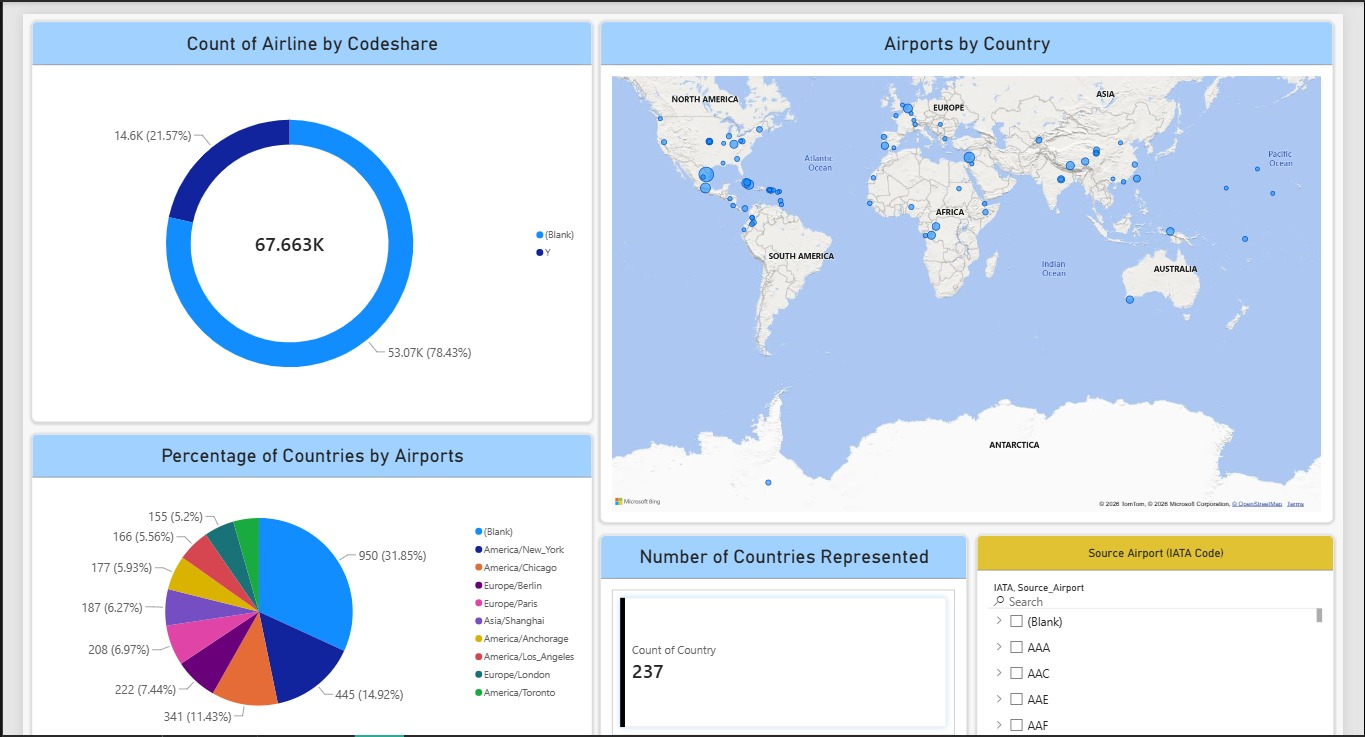

This screenshot's page, from the dashboard's own definition file:
{"tool":"powerbi","page":{"name":"Page 2","canvas":[1920,1080],"ordinal":1},"visuals":[{"type":"donutChart","fields":{"Category":["routes.Codeshare"],"Y":["CountNonNull(routes.Airline)"]},"box":[13.5,11.5,815.4,582.7],"z":0},{"type":"slicer","title":"Source Airport (IATA Code)","fields":{"Values":["airports.IATA","routes.Source_Airport"]},"box":[1386.5,757.7,519.2,307.7],"z":1000},{"type":"pieChart","fields":{"Category":["airlines.Tz_Database"],"Y":["CountNonNull(airlines.Country)"]},"box":[13.5,611.5,815.4,453.8],"z":2000},{"type":"filledMap","fields":{"Category":["airports.Country"],"X":["Count(airports.Airport_ID)"],"Y":["CountNonNull(airports.Airport_ID)"]},"box":[840.4,11.5,1065.4,728.8],"z":3000},{"type":"cardVisual","title":"Number of Countries Represented","fields":{"Data":["Count(airports.Country)"]},"box":[840.4,757.7,532.7,307.7],"z":4000}]}

Visuals, with their boxes on the page's 1920x1080 design canvas (x1, y1, x2, y2). These are canvas units, not pixel positions in the 1365x737 screenshot, which may show the page scaled, cropped or inside an application window:
donutChart - routes.Codeshare x CountNonNull(routes.Airline): region(14, 12, 829, 594)
"Source Airport (IATA Code)" slicer: region(1386, 758, 1906, 1065)
pieChart - airlines.Tz_Database x CountNonNull(airlines.Country): region(14, 612, 829, 1065)
filledMap - airports.Country x Count(airports.Airport_ID): region(840, 12, 1906, 740)
"Number of Countries Represented" cardVisual: region(840, 758, 1373, 1065)
